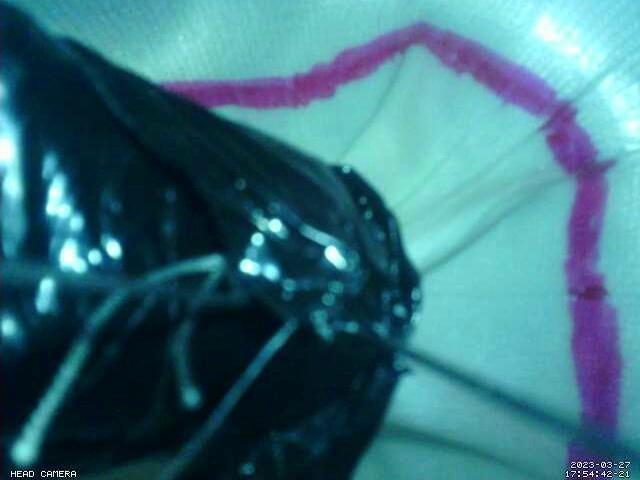red-circle: (161, 21, 625, 480)
